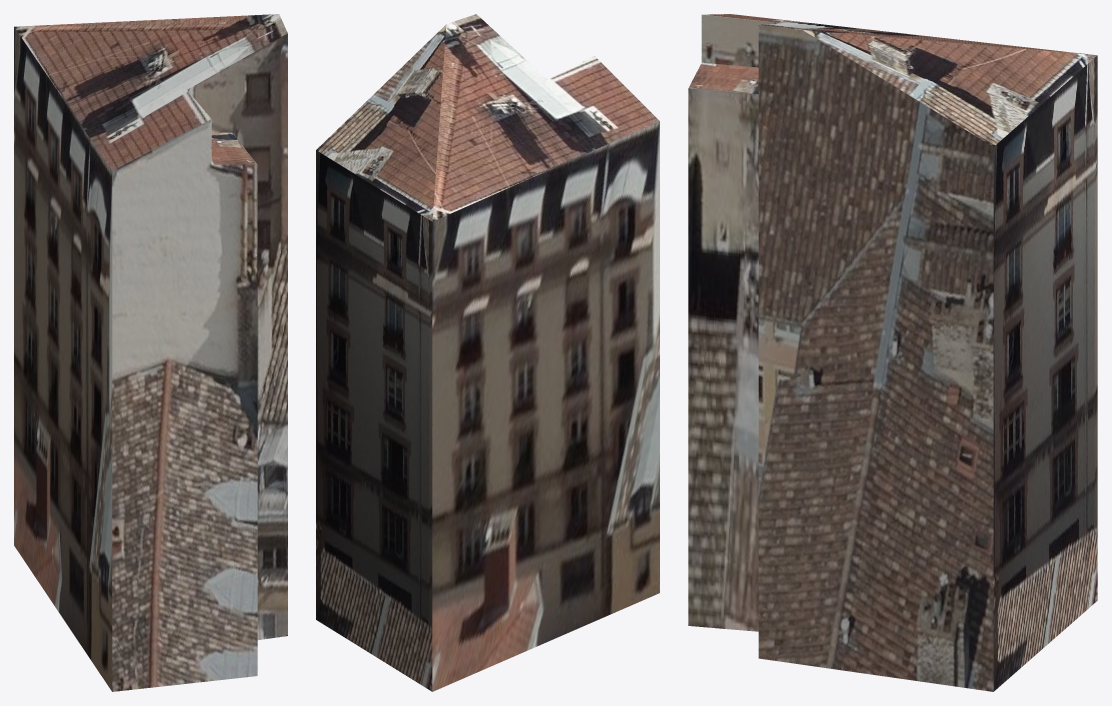
The picture shows the model from 3 angles, left to right: view 1: azimuth 30°, elevation 25°; view 2: azimuth 150°, elevation 25°; view 3: azimuth 270°, elevation 25°; orthographic projection. The views are drawn at different scales.
Parts seen in each view (by area): view 1: Z_UP; view 2: Z_UP; view 3: Z_UP.
Boxes of the visible parts, x1=… form: Z_UP: x1=14, y1=14, x2=287, y2=691; Z_UP: x1=316, y1=14, x2=659, y2=691; Z_UP: x1=688, y1=14, x2=1097, y2=691.
Bounding box in the file's own units: 11.14 × 25.27 × 14.76.
Materials: 2 (1 with a texture image).
